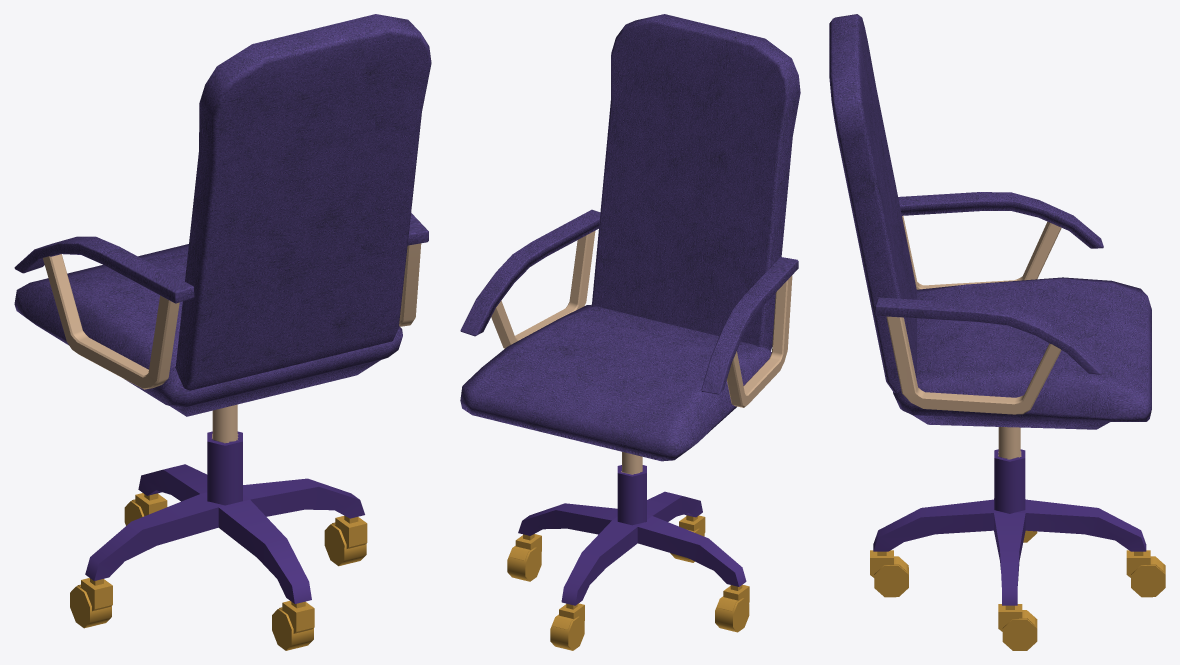
The model's file is Sedia.fbx.
3 renders of one model, left to right at view 1: azimuth 30°, elevation 25°; view 2: azimuth 150°, elevation 25°; view 3: azimuth 270°, elevation 25°, orthographic. The views are drawn at different scales.
Visible parts, largest first — view 1: Sedia:pCube16; view 2: Sedia:pCube16; view 3: Sedia:pCube16.
Part boxes in pixels (x1,y1,x2,y2): Sedia:pCube16: [14, 14, 431, 650]; Sedia:pCube16: [460, 14, 800, 650]; Sedia:pCube16: [829, 14, 1165, 650].
Bounding box in the file's own units: 1.87 × 3.54 × 1.96.
